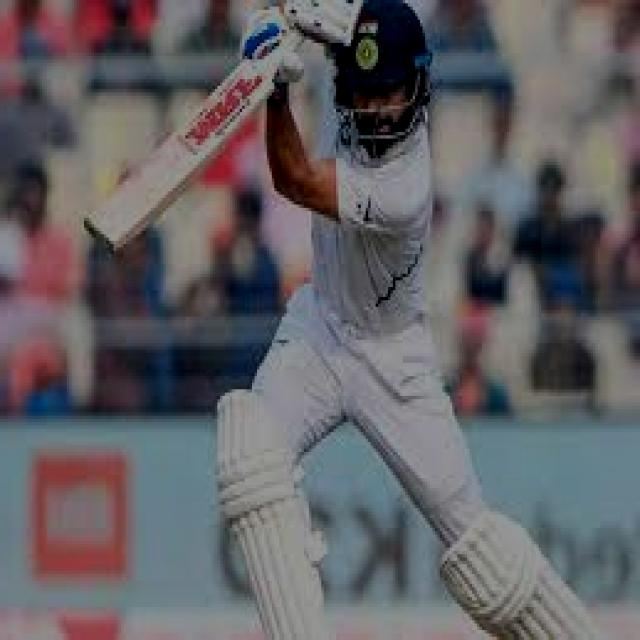toe: (78, 185, 150, 262)
